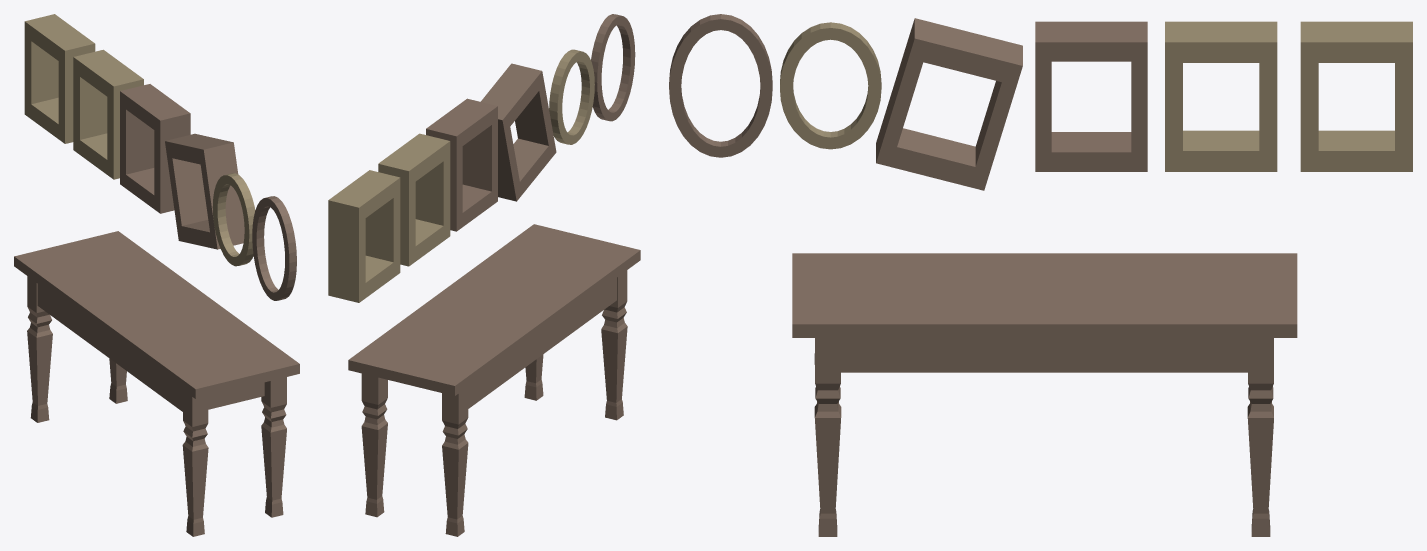
Rendered from stol_i_ramki.fbx.
3 views of the same model, side by side, from view 1: azimuth 30°, elevation 25°; view 2: azimuth 150°, elevation 25°; view 3: azimuth 270°, elevation 25° (orthographic). The views are drawn at different scales.
Visible parts, largest first — view 1: Cube, Cube.001, Plane.016, Plane.015, Plane.017, Plane.014, Cube.002, Circle, Circle.001, Cube.003; view 2: Cube, Cube.001, Plane.017, Plane.016, Plane.014, Plane.015, Cube.002, Circle.001, Circle; view 3: Cube, Cube.002, Plane.016, Plane.014, Plane.017, Plane.015, Cube.001, Circle, Circle.001.
Boxes of the visible parts, left/top/right/bottom form: Cube: left=14, top=231, right=299, bottom=398; Cube.001: left=27, top=276, right=286, bottom=536; Plane.016: left=165, top=133, right=244, bottom=249; Plane.015: left=120, top=84, right=190, bottom=213; Plane.017: left=24, top=14, right=95, bottom=143; Plane.014: left=73, top=49, right=143, bottom=179; Cube.002: left=37, top=284, right=182, bottom=411; Circle: left=252, top=196, right=296, bottom=300; Circle.001: left=212, top=173, right=255, bottom=266; Cube.003: left=208, top=382, right=264, bottom=409; Cube: left=348, top=224, right=640, bottom=395; Cube.001: left=361, top=270, right=627, bottom=536; Plane.017: left=328, top=170, right=400, bottom=302; Plane.016: left=480, top=63, right=556, bottom=201; Plane.014: left=378, top=133, right=450, bottom=266; Plane.015: left=426, top=98, right=497, bottom=231; Cube.002: left=468, top=278, right=616, bottom=408; Circle.001: left=549, top=49, right=594, bottom=144; Circle: left=591, top=14, right=635, bottom=121; Cube: left=792, top=253, right=1297, bottom=337; Cube.002: left=841, top=338, right=1247, bottom=372; Plane.016: left=876, top=18, right=1022, bottom=190; Plane.014: left=1165, top=21, right=1277, bottom=171; Plane.017: left=1300, top=21, right=1412, bottom=171; Plane.015: left=1035, top=21, right=1147, bottom=171; Cube.001: left=814, top=338, right=1273, bottom=536; Circle: left=669, top=14, right=772, bottom=157; Circle.001: left=780, top=22, right=881, bottom=149.
Size of the model in its own units: 0.519 by 1.68 by 2.31.
